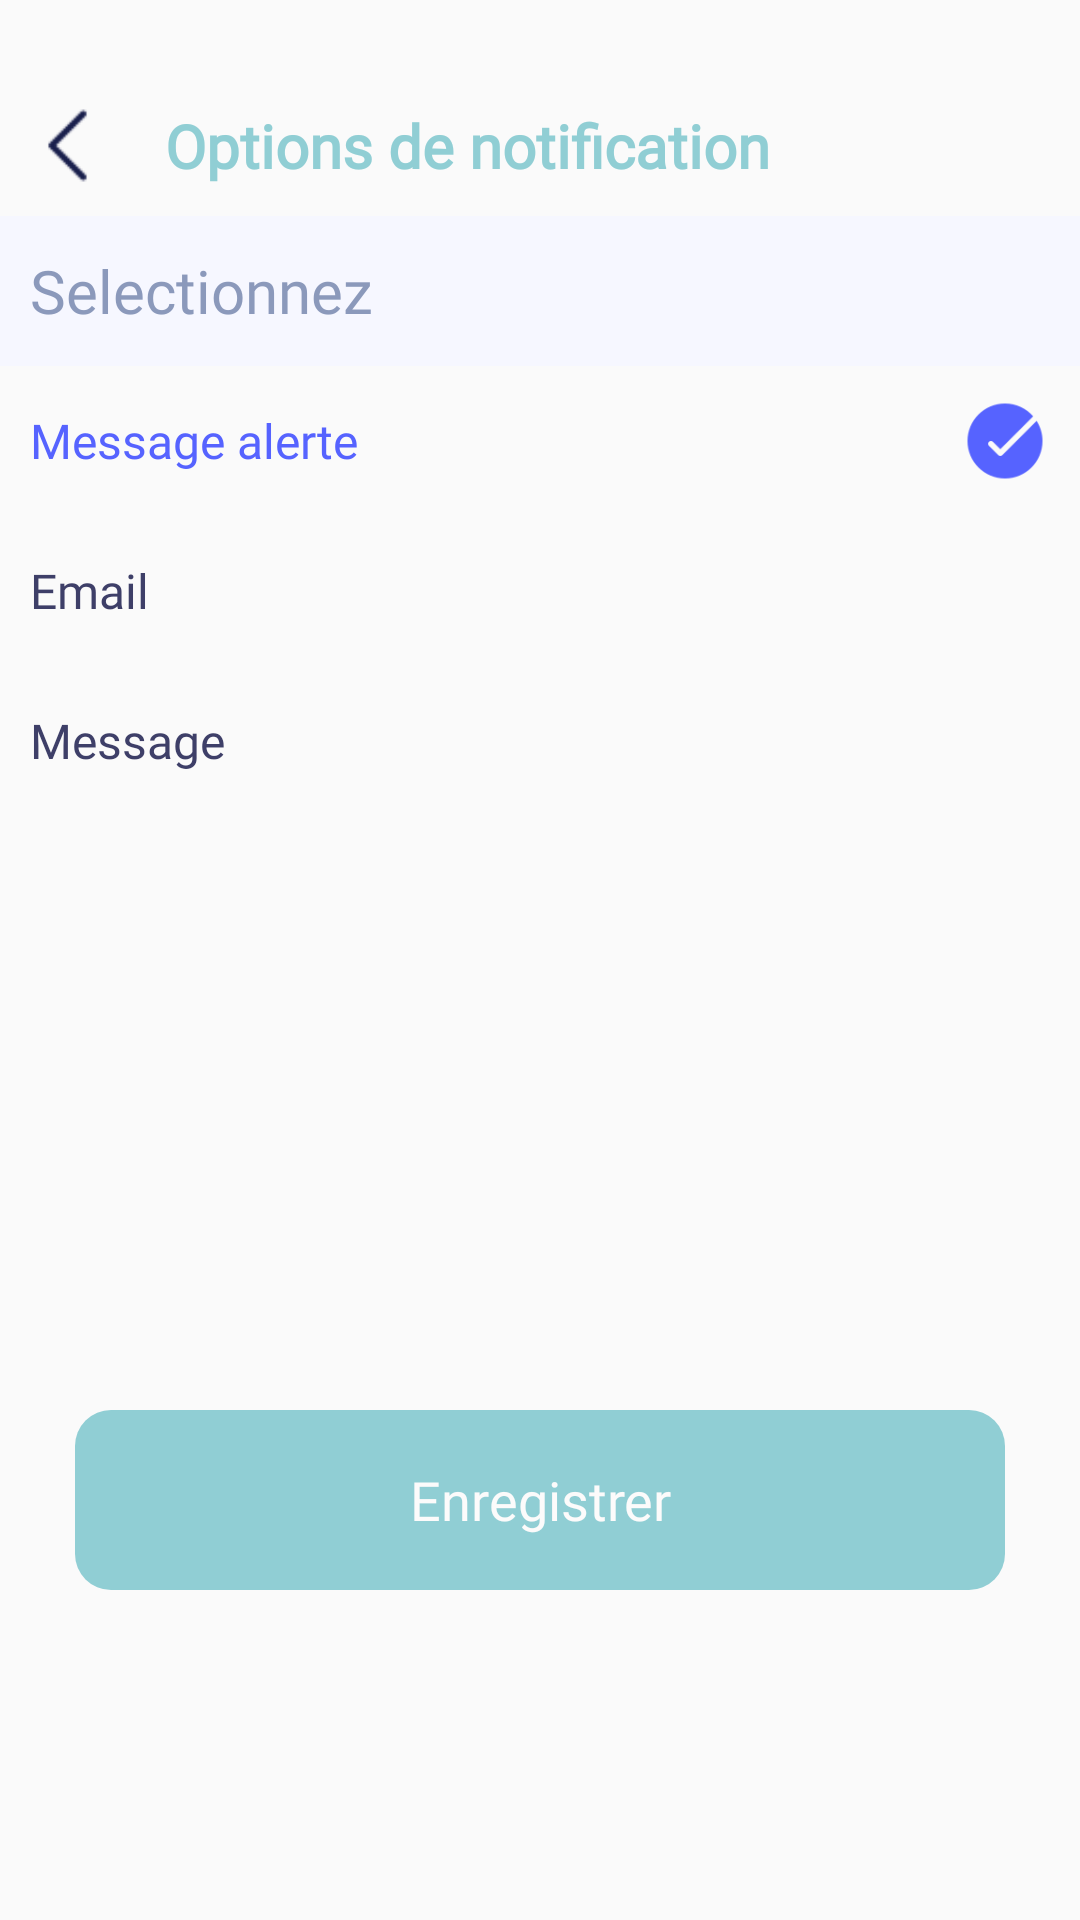

Icons on this 1080 × 1920 Android screen, each with its box as [x1,y1,x2,y2]:
blackback: [48,109,87,182]
checked: [967,403,1043,479]
